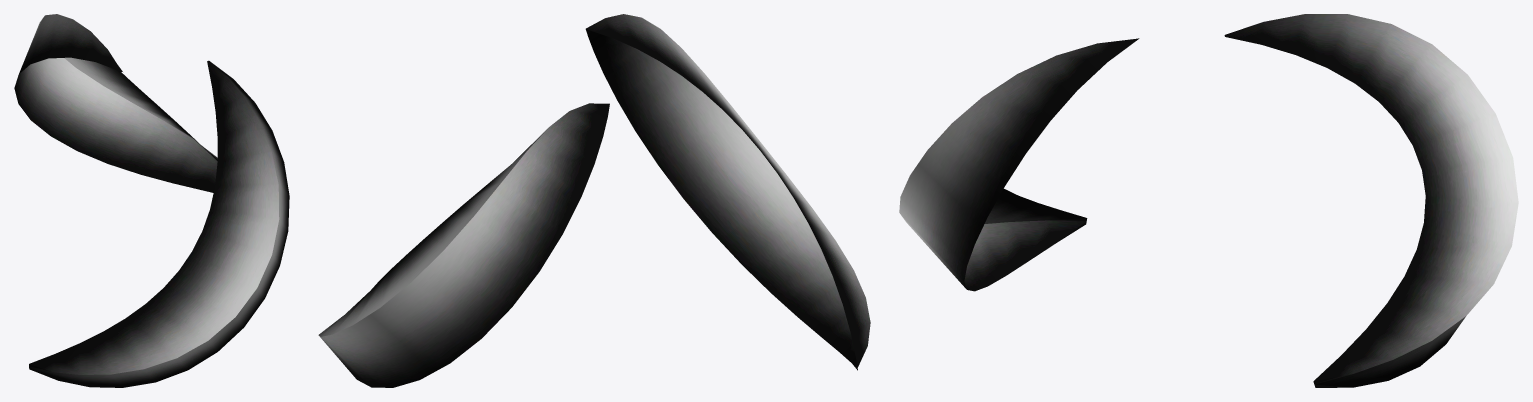
File: vfx_kurp_0701.dae
3 views of the same model, side by side, from view 1: azimuth 30°, elevation 25°; view 2: azimuth 150°, elevation 25°; view 3: azimuth 270°, elevation 25° (orthographic). The views are drawn at different scales.
Parts seen in each view (by area): view 1: vfx_kurp_0701; view 2: vfx_kurp_0701; view 3: vfx_kurp_0701.
Boxes of the visible parts, bbox=[...] form: vfx_kurp_0701: bbox=[14, 14, 289, 387]; vfx_kurp_0701: bbox=[318, 14, 870, 387]; vfx_kurp_0701: bbox=[899, 14, 1518, 387].
Bounding box in the file's own units: 3.03 × 4.07 × 2.34.
Materials: 1 (1 with a texture image).
